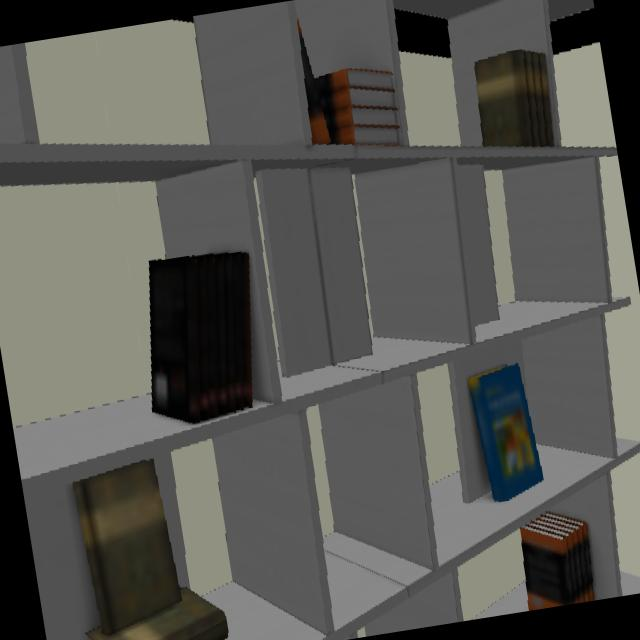book: (72, 461, 229, 640), (148, 254, 255, 426), (466, 366, 545, 503), (473, 48, 562, 149), (520, 513, 595, 611), (306, 70, 398, 145)
